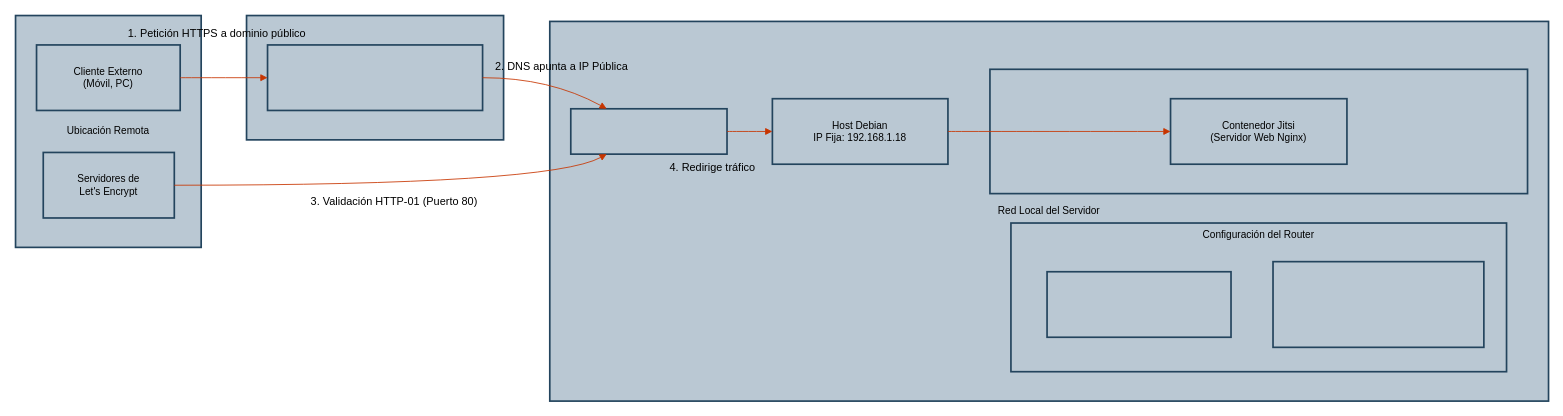
The diagram is 1563 pixels wide and 416 high, and some of its shapes have lost their labels. Each missing label, with the centre of its shape:
"alvaro-tfg-jitsi.duckdns.org" belongs at [374,77].
"Cliente DuckDNS: Actualiza la IP Pública" belongs at [1138,304].
"Redirección de Puertos: Externo 80 ; Interno 80 Externo 443 ; Interno 443" belongs at [1378,304].
"Router Doméstico" belongs at [648,131].
